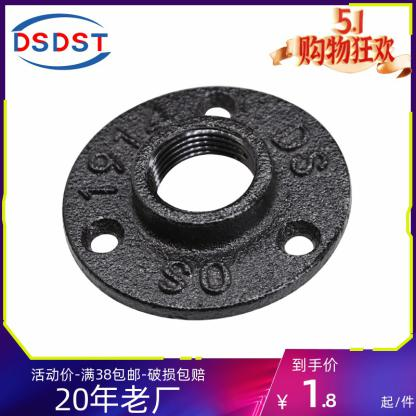FOD: (58, 79, 356, 321)
